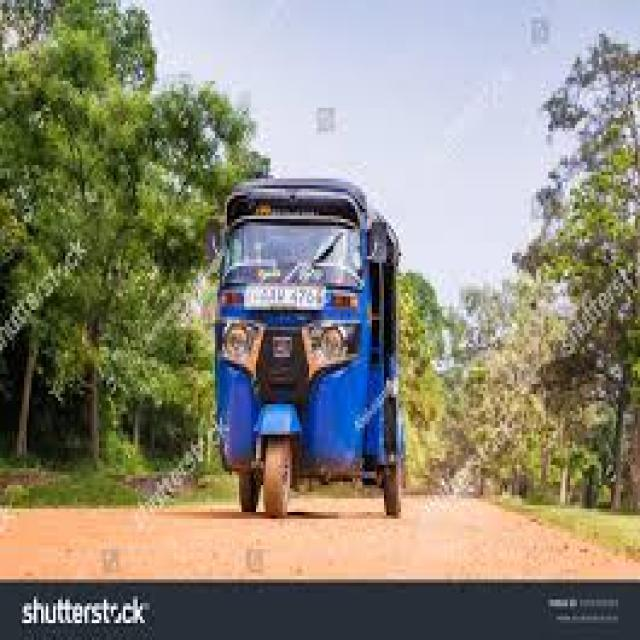three wheeler: (215, 179, 401, 515)
